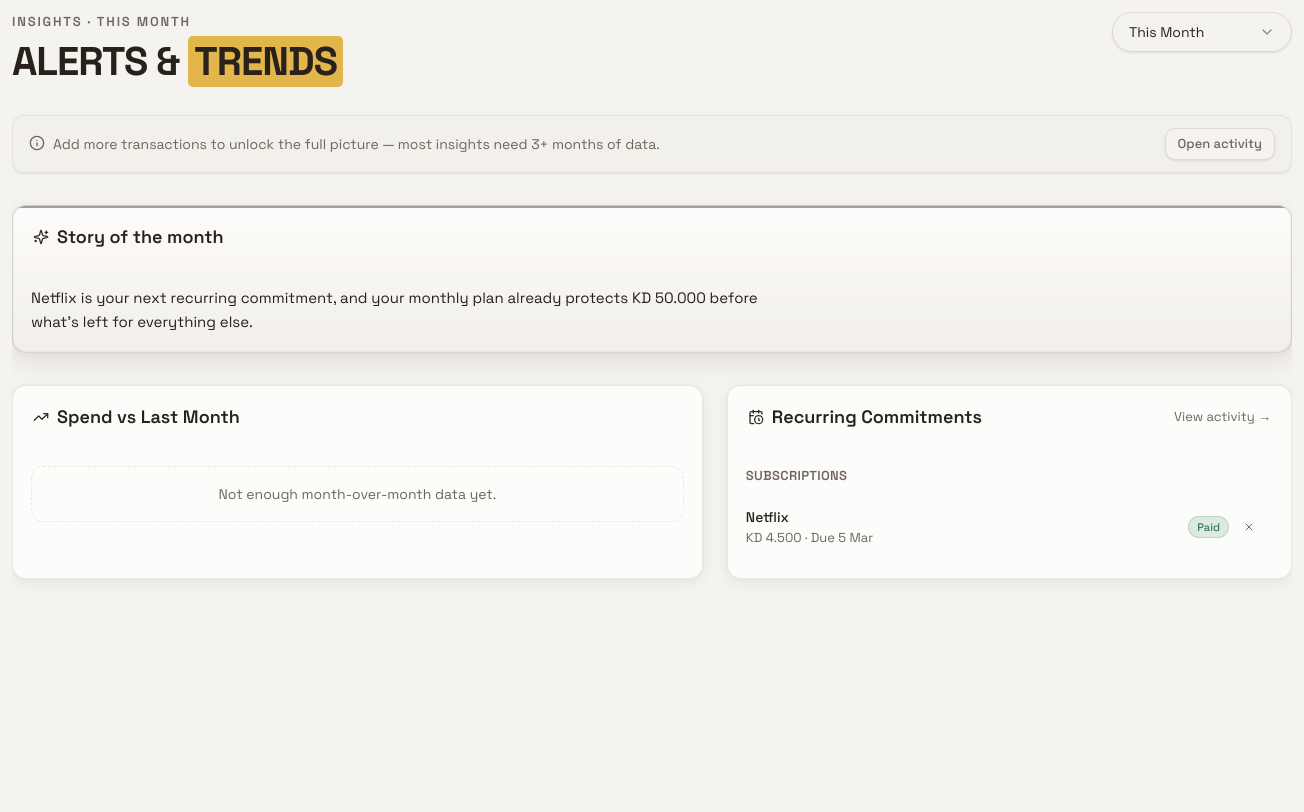
Scenario: InsightsPage › persists dismissed recurring commitments per user across revisits
Check: the text "Netflix" is shown, box x1=746 y1=508 x2=789 y2=526
Click the button named "Dismiss Netflix as non-recurring" at [1249, 527], box x1=1237 y1=515 x2=1261 y2=539
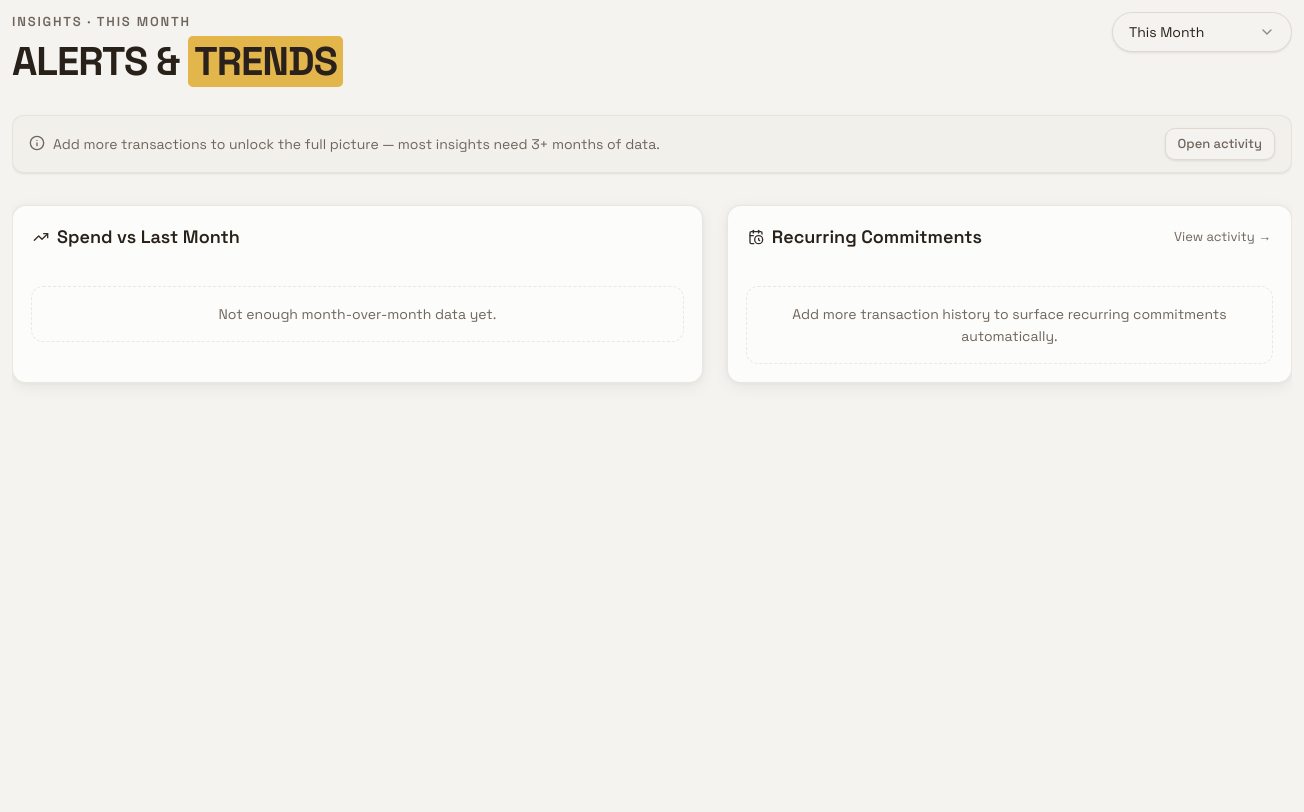
Check: the text "Netflix" is gone
